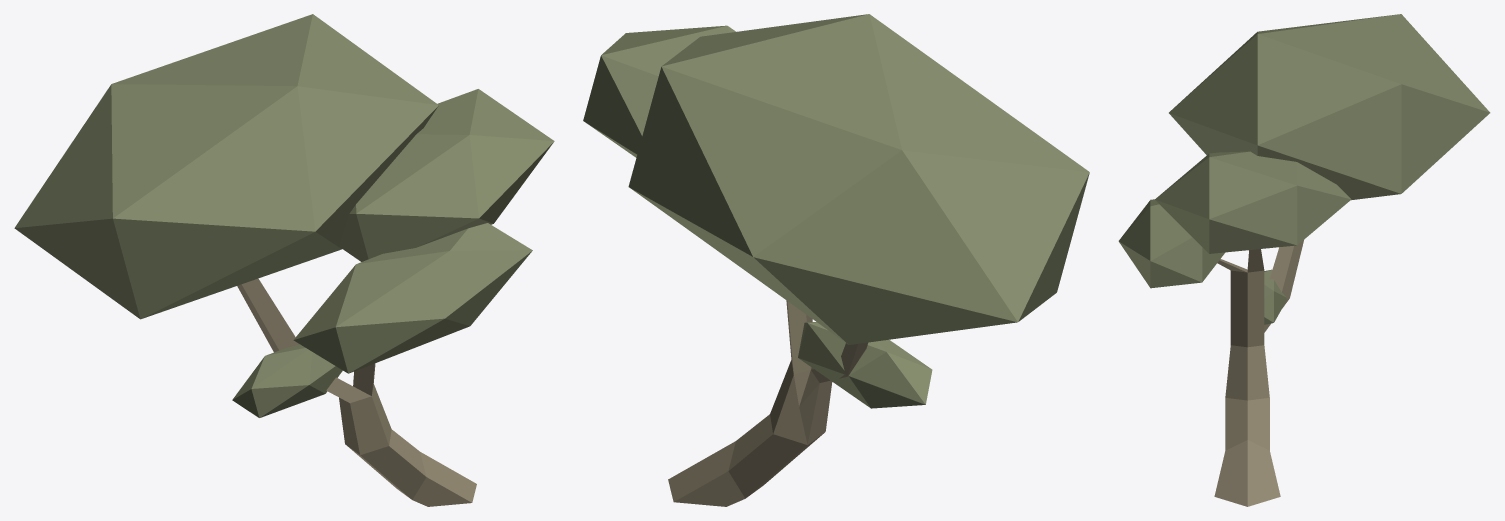
Rendered from Oak3.fbx.
3 renders of one model, left to right at view 1: azimuth 30°, elevation 25°; view 2: azimuth 150°, elevation 25°; view 3: azimuth 270°, elevation 25°, orthographic. The views are drawn at different scales.
Parts seen in each view (by area): view 1: Oak3; view 2: Oak3; view 3: Oak3.
Part boxes in pixels (x1,y1,x2,y2): Oak3: [14, 14, 554, 506]; Oak3: [583, 14, 1089, 506]; Oak3: [1118, 14, 1490, 506].
Bounding box in the file's own units: 13.05 × 12.52 × 10.67.
